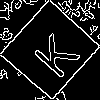K: (25, 25, 81, 81)
